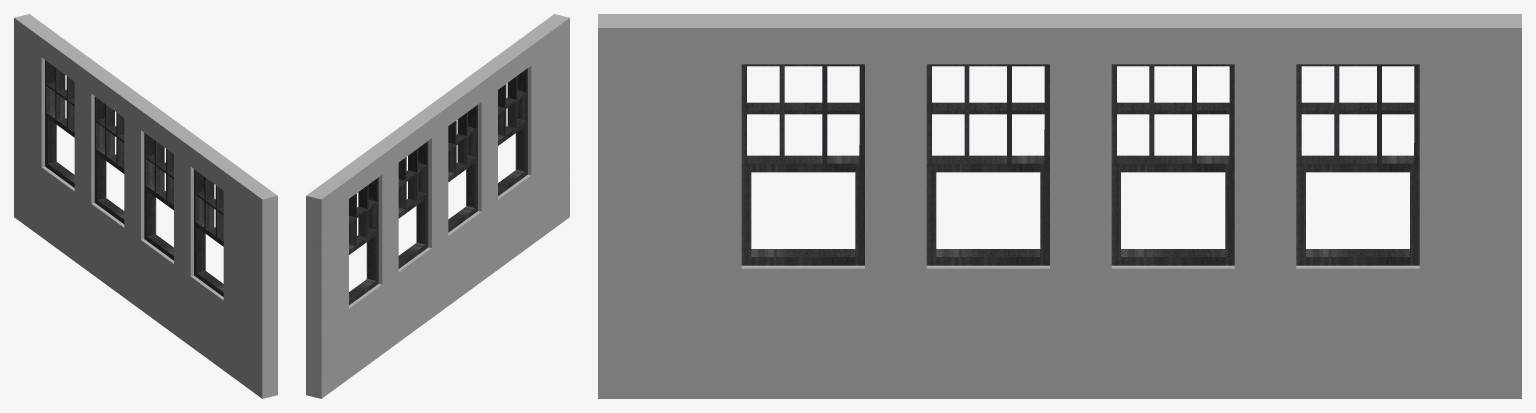
The model's file is M_tembok dapur2.fbx.
3 views of the same model, side by side, from view 1: azimuth 30°, elevation 25°; view 2: azimuth 150°, elevation 25°; view 3: azimuth 270°, elevation 25° (orthographic). The views are drawn at different scales.
Parts seen in each view (by area): view 1: tembok jendela; view 2: tembok jendela; view 3: tembok jendela.
Part boxes in pixels (left/top/right/bottom): tembok jendela: left=14, top=14, right=277, bottom=398; tembok jendela: left=306, top=14, right=569, bottom=398; tembok jendela: left=598, top=14, right=1521, bottom=398.
Bounding box in the file's own units: 18.63 × 229 × 517.
